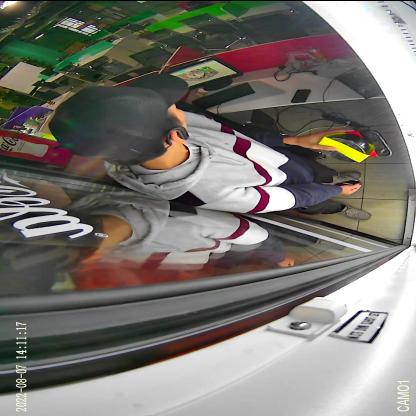red: (344, 130, 392, 156)
yellow: (318, 131, 376, 162)
